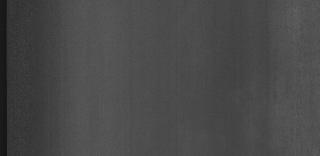silk spot: (263, 40, 317, 134)
